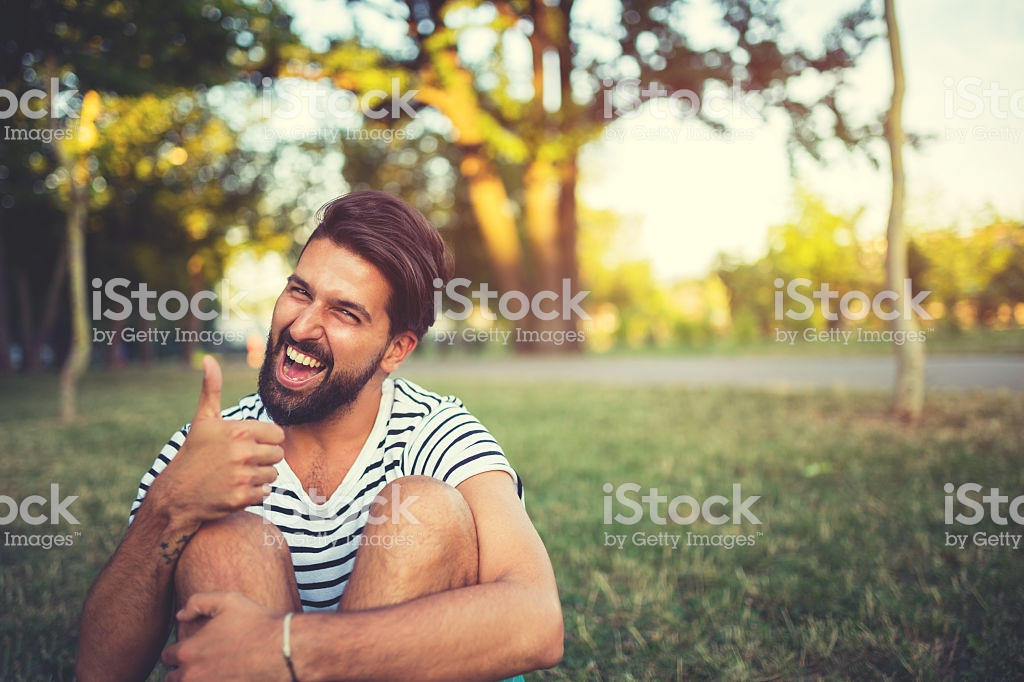thumbsup: (194, 352, 287, 512)
